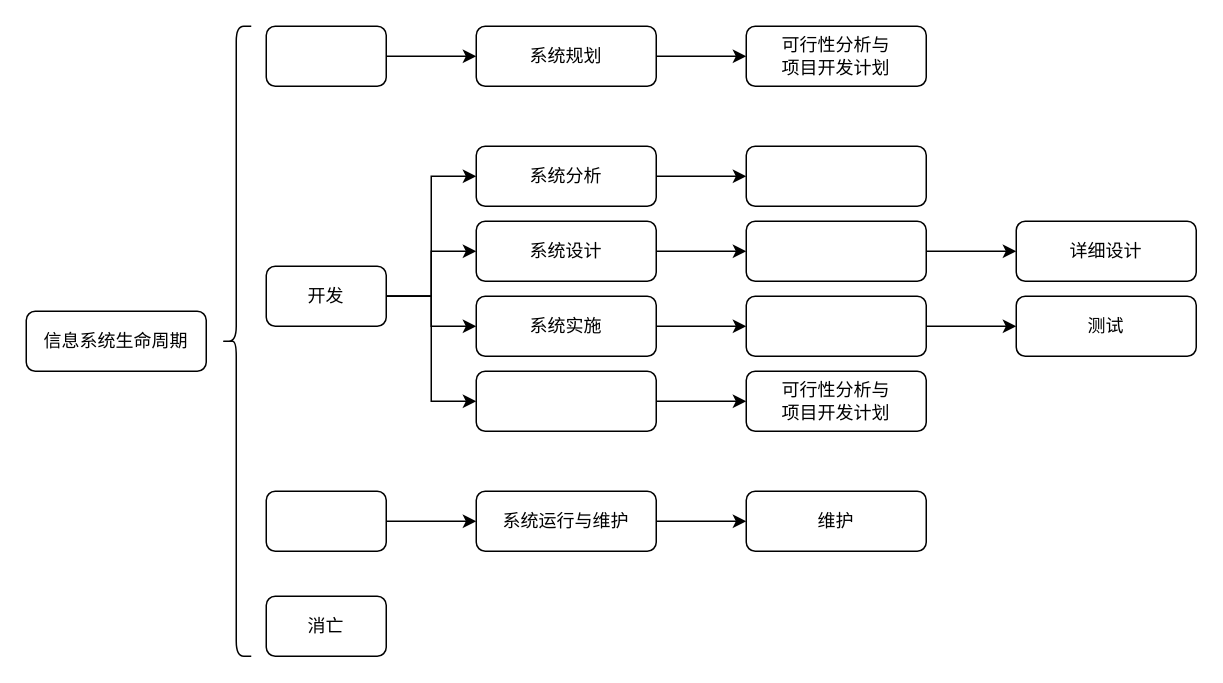
Some shapes in this 1223 by 683 pixel diagram are drawn without their labels. The centre of each missing label's shape, as x and y in pixels:
"概要设计" belongs at point (835, 250).
"立项" belongs at point (325, 55).
"系统验收" belongs at point (565, 400).
"编码" belongs at point (835, 325).
"运维" belongs at point (325, 520).
"需求分析" belongs at point (835, 175).
